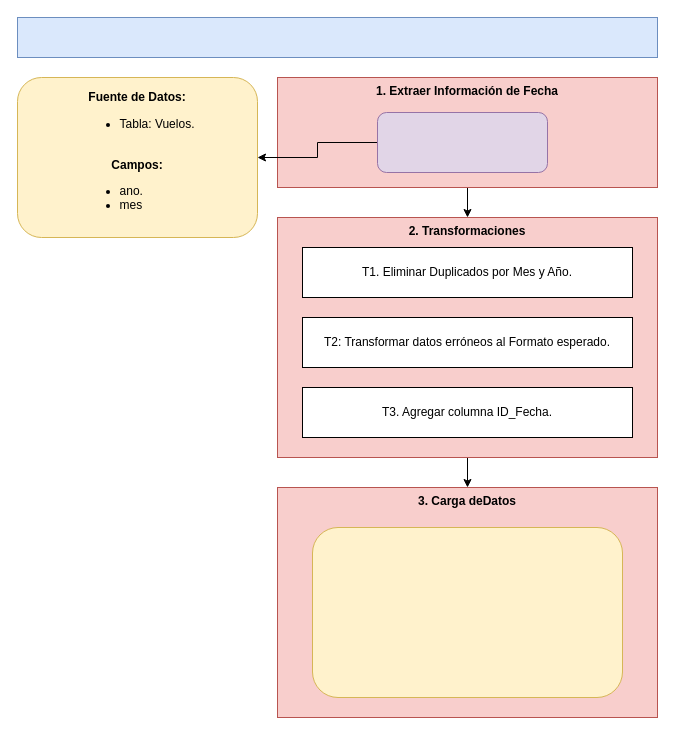
This 675x735 diagram has some shape labels left out. Each missing label, with the centre of its shape:
"Destino de Datos: Tabla: G5_Fecha. Campos: ID_Fecha. Mes. Anio." goes at point 467,612.
"Divipola" goes at point 337,37.
"Extraer Fecha" goes at point 462,142.
